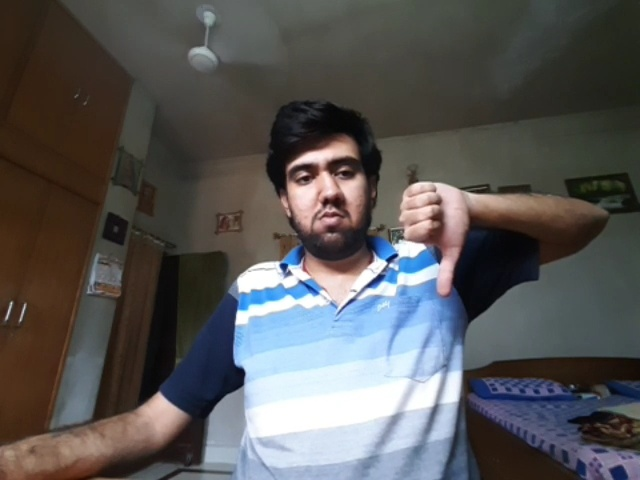NotOk: (401, 181, 468, 297)
